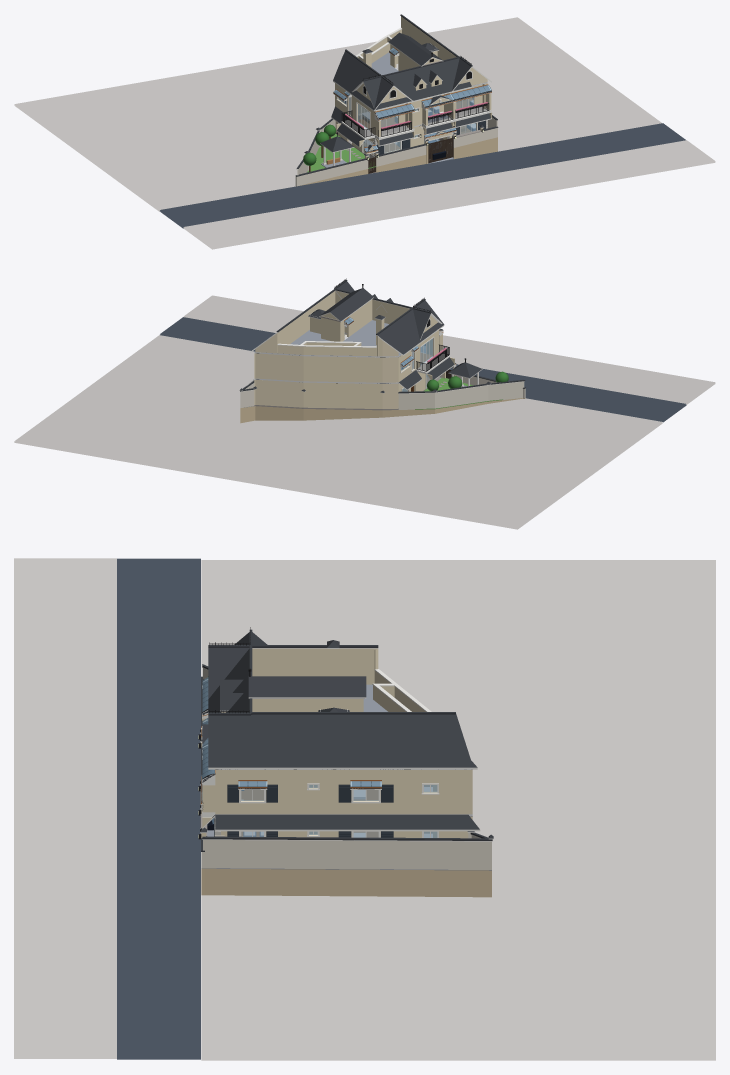
The picture shows the model from 3 angles, top to bottom: view 1: azimuth 30°, elevation 25°; view 2: azimuth 150°, elevation 25°; view 3: azimuth 270°, elevation 25°; orthographic projection. The views are drawn at different scales.
Parts seen in each view (by area): view 1: ground_ground, road_road, RF_m_rooftile, RF_m_wall, m_boundary, m_rooftile, m_stone, SF_m_wall, SF_m_iron, RF_m_trim, SF_m_trim, SF_m_rooftile__sD (+8 smaller); view 2: ground_ground, road_road, RF_m_wall, SF_m_wall, m_wall, RF_m_rooftile, m_boundary, m_stone, m_rooftile, RF_m_trim, RF_m_paver, m_trim; view 3: ground_ground, road_road, RF_m_rooftile, SF_m_wall, m_boundary, m_stone, RF_m_wall, m_rooftile, RF_m_trim, m_trim, m_wall, SF_m_shutter__sA (+1 smaller).
Part boxes in pixels (x1,y1,x2,y2): ground_ground: [14, 17, 715, 249]; road_road: [160, 123, 685, 228]; RF_m_rooftile: [333, 14, 472, 109]; RF_m_wall: [356, 16, 487, 103]; m_boundary: [295, 117, 497, 186]; m_rooftile: [295, 106, 498, 176]; m_stone: [296, 137, 497, 186]; SF_m_wall: [335, 83, 487, 134]; SF_m_iron: [341, 103, 489, 137]; RF_m_trim: [333, 16, 491, 111]; SF_m_trim: [336, 97, 491, 139]; SF_m_rooftile__sD: [334, 85, 491, 119]; ground_ground: [14, 295, 715, 529]; road_road: [160, 317, 686, 422]; RF_m_wall: [255, 291, 437, 356]; SF_m_wall: [254, 327, 438, 382]; m_wall: [254, 357, 455, 408]; RF_m_rooftile: [276, 280, 444, 354]; m_boundary: [240, 374, 525, 409]; m_stone: [240, 398, 525, 423]; m_rooftile: [240, 357, 525, 393]; RF_m_trim: [250, 290, 444, 355]; RF_m_paver: [254, 320, 400, 356]; m_trim: [239, 364, 524, 393]; ground_ground: [14, 558, 715, 1060]; road_road: [117, 558, 200, 1059]; RF_m_rooftile: [208, 629, 477, 767]; SF_m_wall: [215, 770, 472, 814]; m_boundary: [201, 668, 491, 869]; m_stone: [200, 789, 491, 897]; RF_m_wall: [221, 648, 425, 712]; m_rooftile: [200, 664, 493, 851]; RF_m_trim: [208, 648, 477, 769]; m_trim: [200, 667, 493, 841]; m_wall: [201, 742, 472, 838]; SF_m_shutter__sA: [227, 784, 393, 802].
Size of the model in its own units: 67.06 by 14.65 by 45.72.
